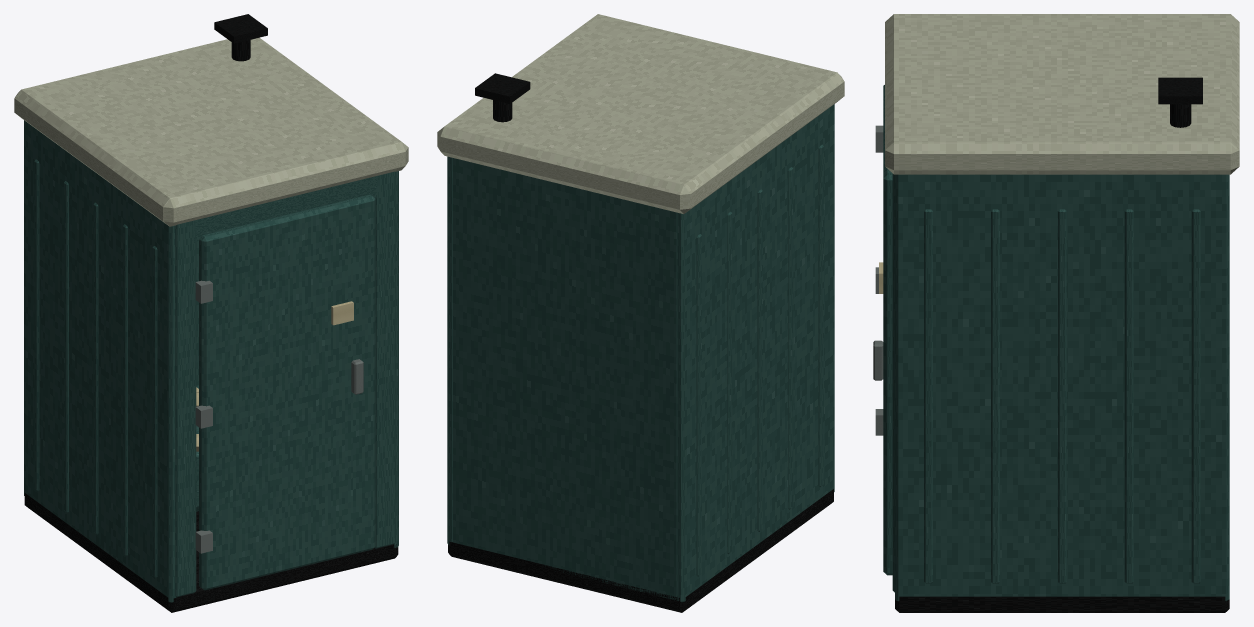
File: level_camp_portable_toilet_closed.glb
3 views of the same model, side by side, from view 1: azimuth 30°, elevation 25°; view 2: azimuth 150°, elevation 25°; view 3: azimuth 270°, elevation 25° (orthographic). The views are drawn at different scales.
Visible parts, largest first — view 1: level_camp_portable_toilet_closed; view 2: level_camp_portable_toilet_closed; view 3: level_camp_portable_toilet_closed.
Part boxes in pixels (x1,y1,x2,y2): level_camp_portable_toilet_closed: [14, 14, 408, 612]; level_camp_portable_toilet_closed: [437, 14, 844, 612]; level_camp_portable_toilet_closed: [873, 14, 1239, 612].
Size of the model in its own units: 1.44 by 2.52 by 1.64.
5 materials, 5 textured.
